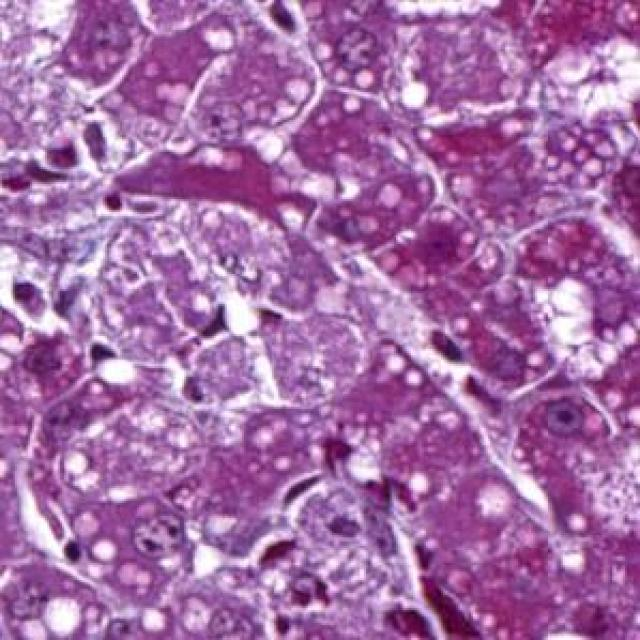ballooning: (520, 30, 634, 186)
